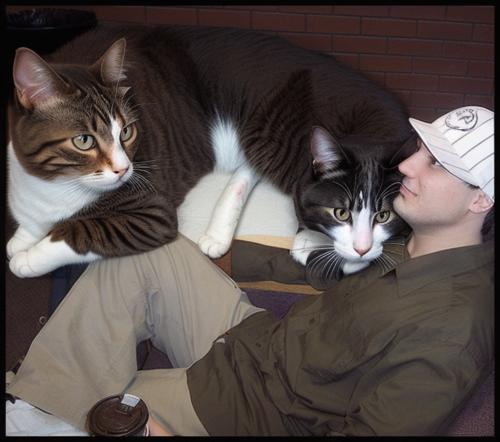cat: (6, 22, 410, 278)
chair: (138, 280, 496, 438), (130, 114, 417, 243)
person: (7, 106, 494, 438)
person/foot: (6, 394, 89, 437)
person/hand: (146, 415, 174, 437)
person/head: (388, 106, 496, 231)
